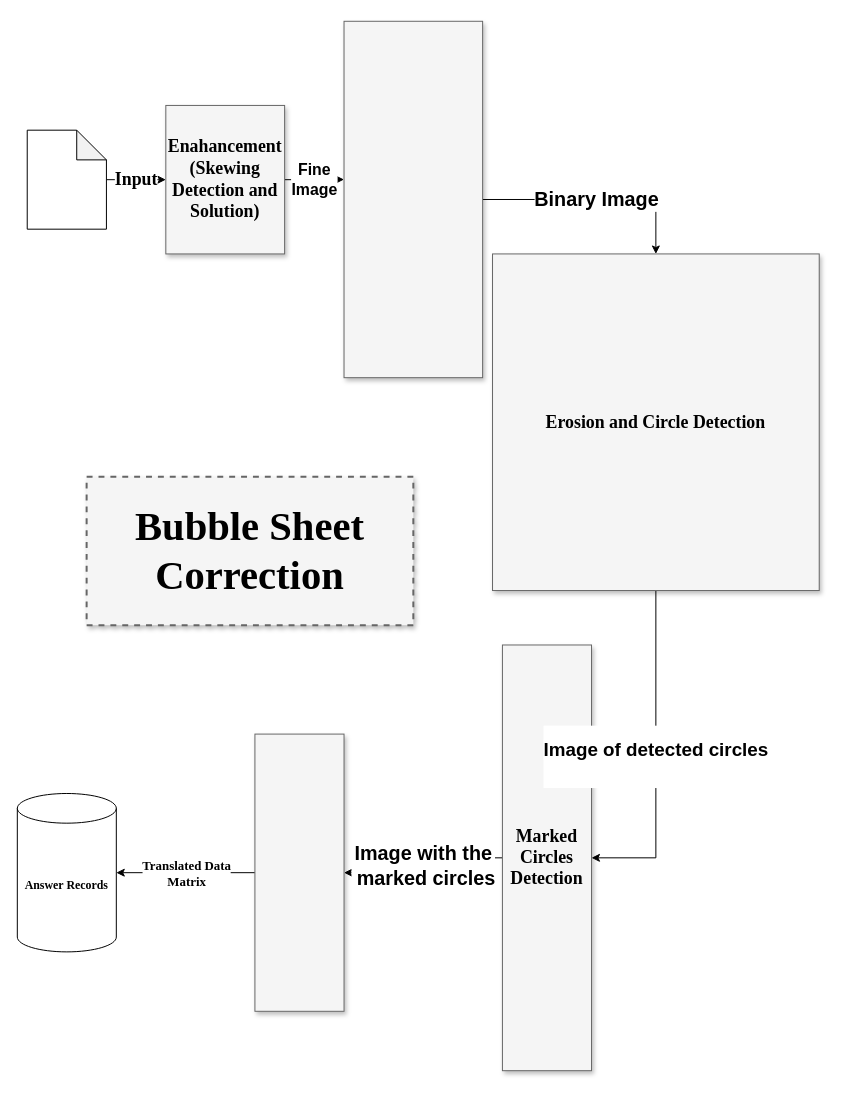
Image size: 843x1094. Some labels were removed from this diagram. The shapes that lost their labels are listed below. From the top down, each one's centre as x and y in pixels, then its label:
At (66,179): "Original Image".
At (414,200): "Binary Transformation".
At (299,874): "Count and Map the answers".
